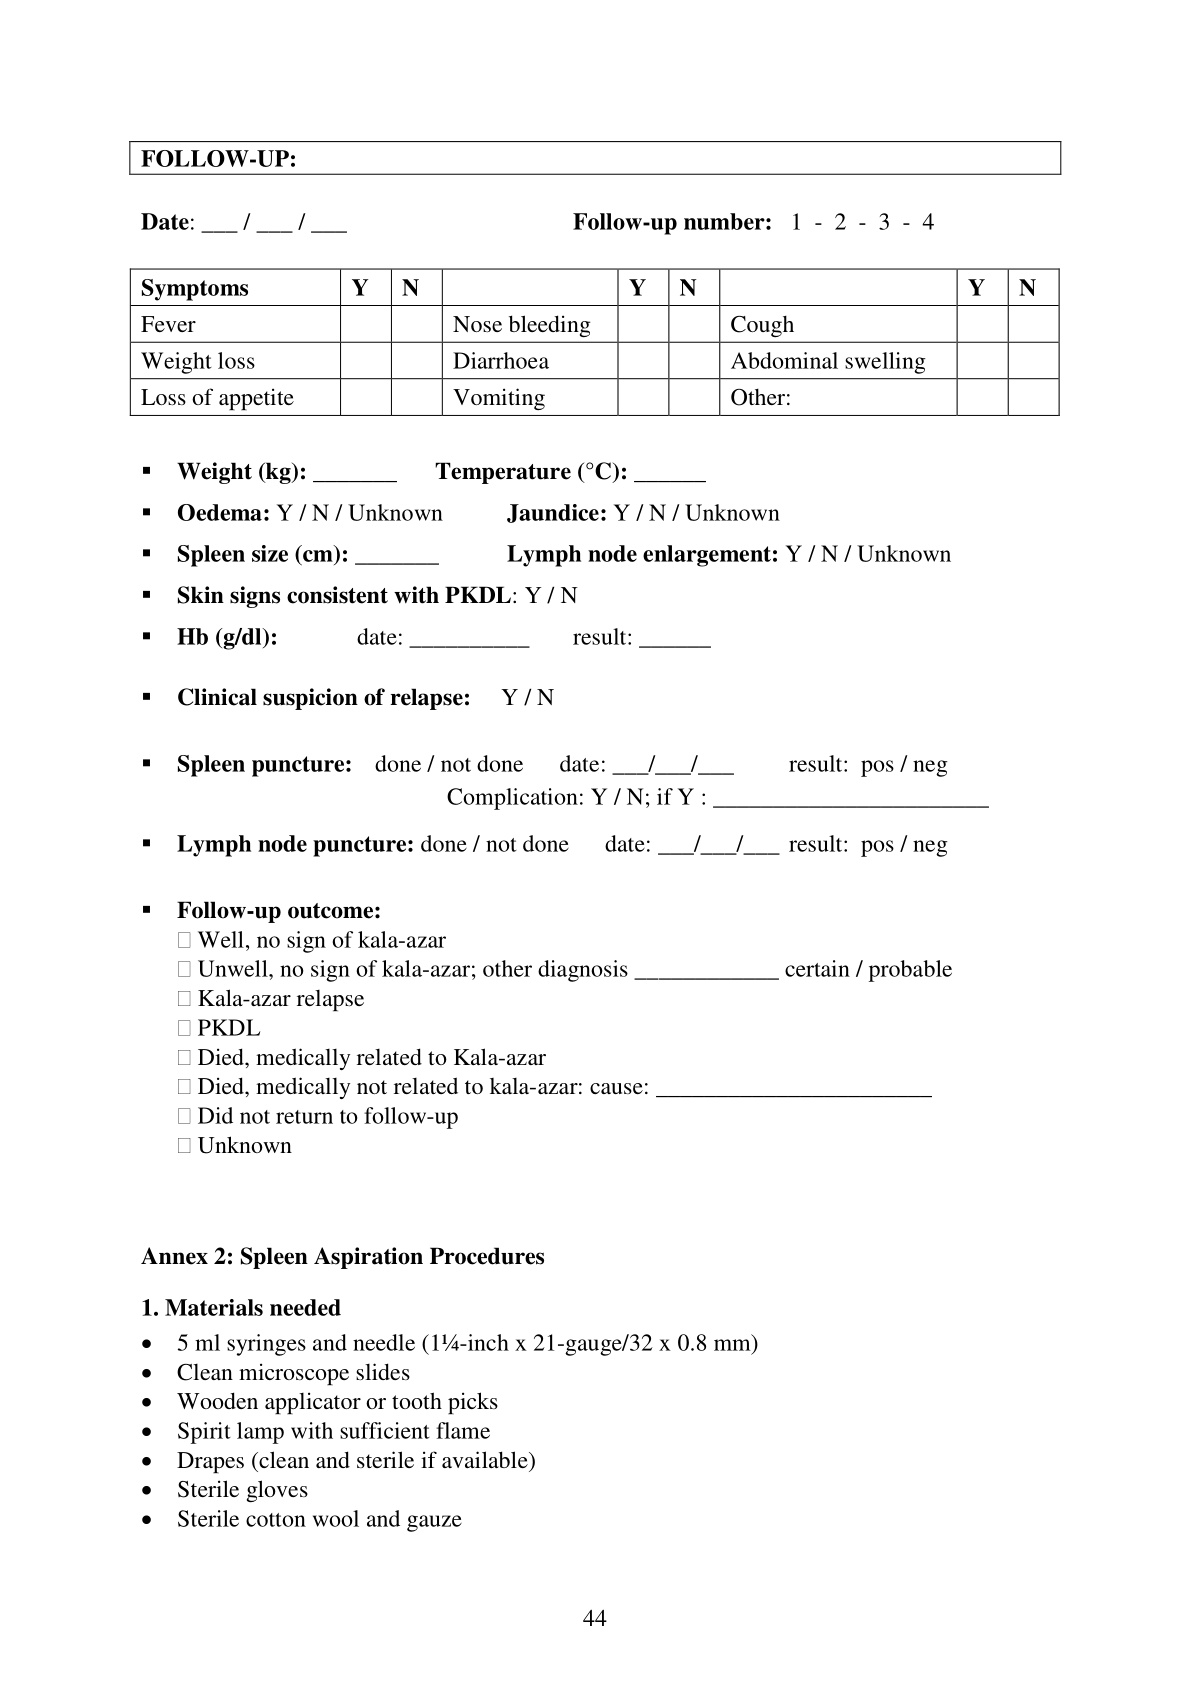full_lined: (128, 267, 1061, 417)
